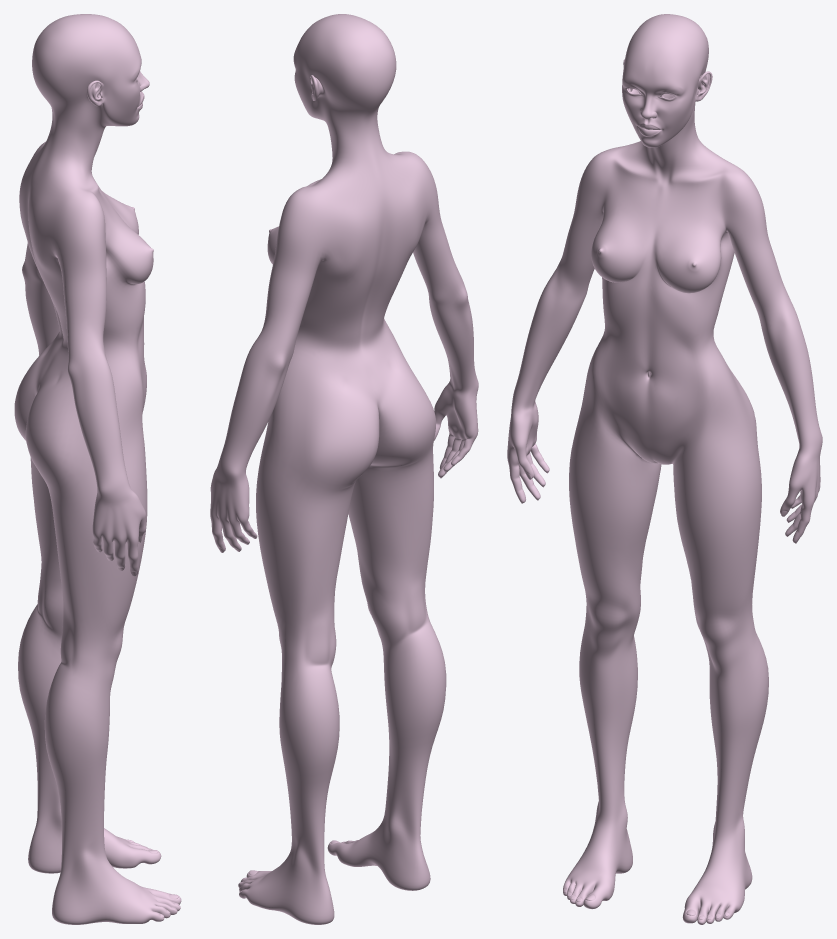
File: Woman_Body.002.gltf
The picture shows the model from 3 angles, left to right: view 1: azimuth 30°, elevation 25°; view 2: azimuth 150°, elevation 25°; view 3: azimuth 270°, elevation 25°; orthographic projection.
Parts seen in each view (by area): view 1: Woman_Body.002; view 2: Woman_Body.002; view 3: Woman_Body.002.
Boxes of the visible parts, bbox=[...] form: Woman_Body.002: bbox=[14, 14, 181, 924]; Woman_Body.002: bbox=[210, 14, 478, 924]; Woman_Body.002: bbox=[507, 14, 822, 924].
Size of the model in its own units: 2.09 by 11.19 by 3.7.
